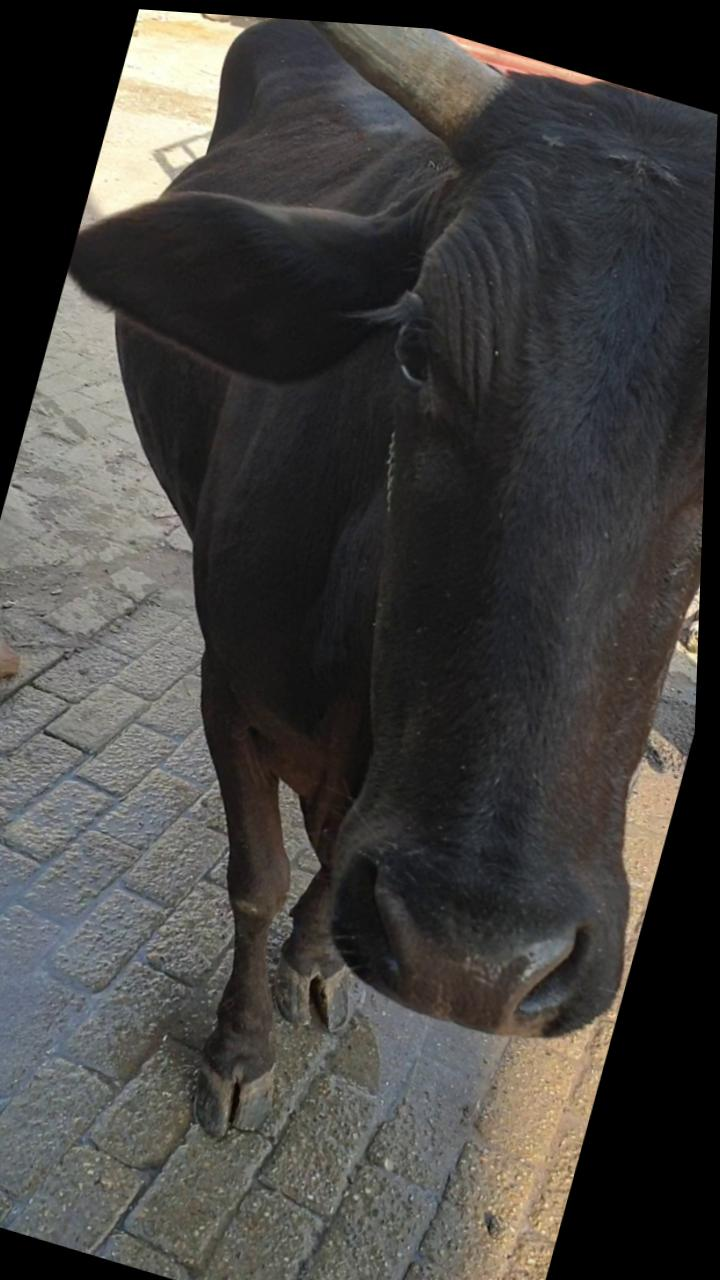cows: (215, 54, 719, 1048)
